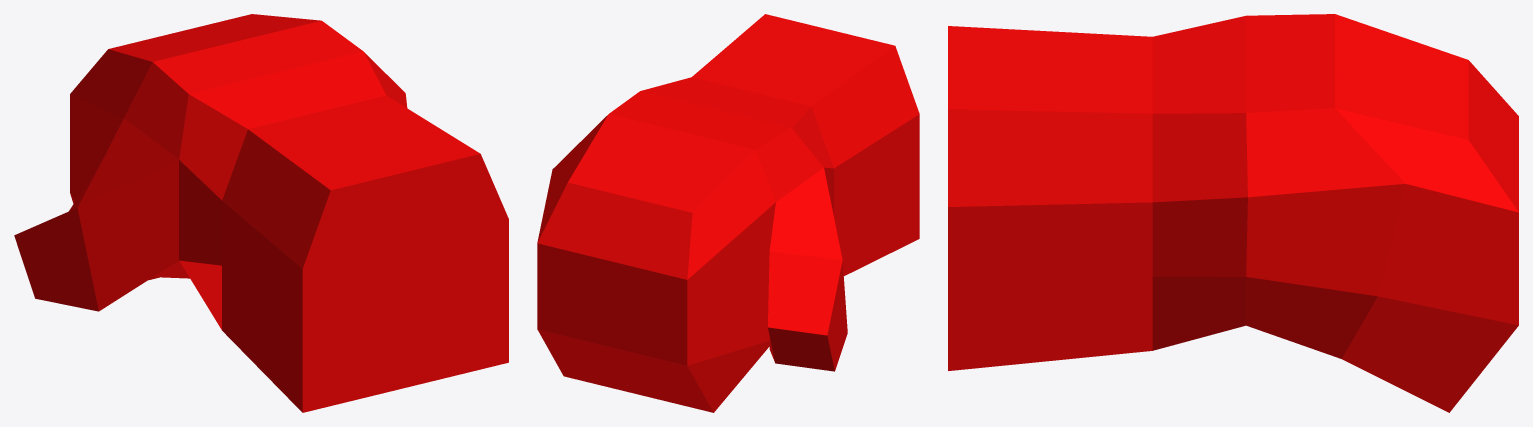
Rendered from BoxingGlove.fbx.
3 renders of one model, left to right at view 1: azimuth 30°, elevation 25°; view 2: azimuth 150°, elevation 25°; view 3: azimuth 270°, elevation 25°, orthographic. The views are drawn at different scales.
Visible parts, largest first — view 1: Cube; view 2: Cube; view 3: Cube.
Boxes of the visible parts, x1,y1,x2,y2 form: Cube: (14, 14, 508, 412); Cube: (537, 14, 919, 412); Cube: (948, 14, 1518, 412).
Bounding box in the file's own units: 297 × 230 × 391.
